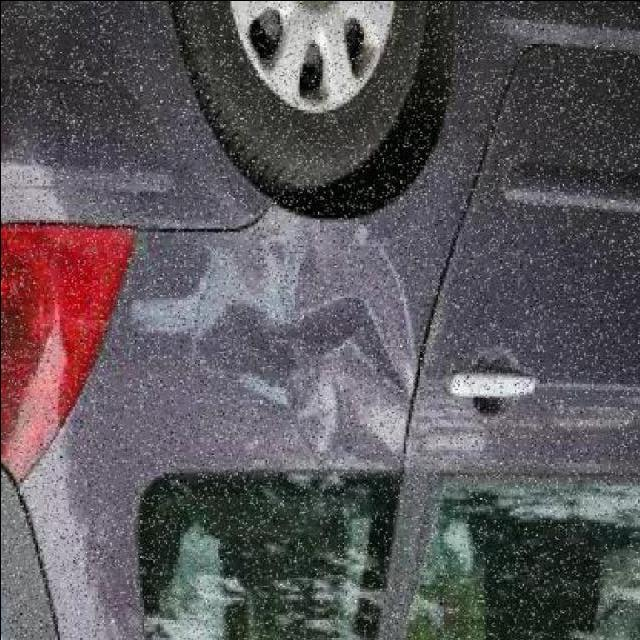quaterpanel-dent: (62, 177, 423, 474)
